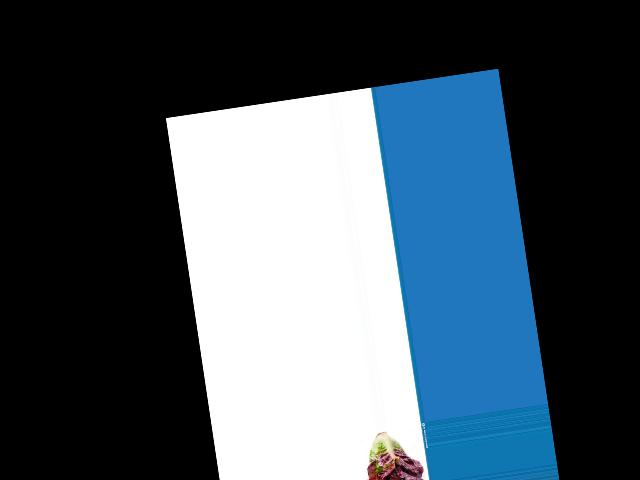lettuce: (358, 426, 428, 480)
